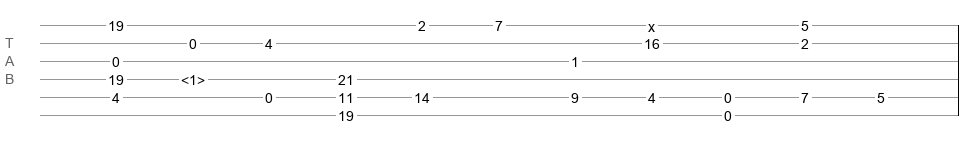0: (112, 54, 120, 64), (189, 36, 197, 46), (265, 90, 273, 100), (724, 108, 732, 118), (724, 90, 732, 100)
1: (571, 54, 579, 64)
11: (338, 90, 354, 100)
14: (414, 90, 430, 100)
16: (644, 36, 660, 46)
19: (108, 18, 124, 28), (108, 72, 124, 82), (338, 108, 354, 118)
2: (418, 18, 426, 28), (801, 36, 809, 46)
21: (338, 72, 354, 82)
4: (112, 90, 120, 100), (265, 36, 273, 46), (648, 90, 656, 100)
5: (801, 18, 809, 28), (877, 90, 885, 100)
7: (495, 18, 503, 28), (801, 90, 809, 100)
9: (571, 90, 579, 100)
harmonic: (181, 72, 205, 82)
x: (648, 19, 655, 27)
